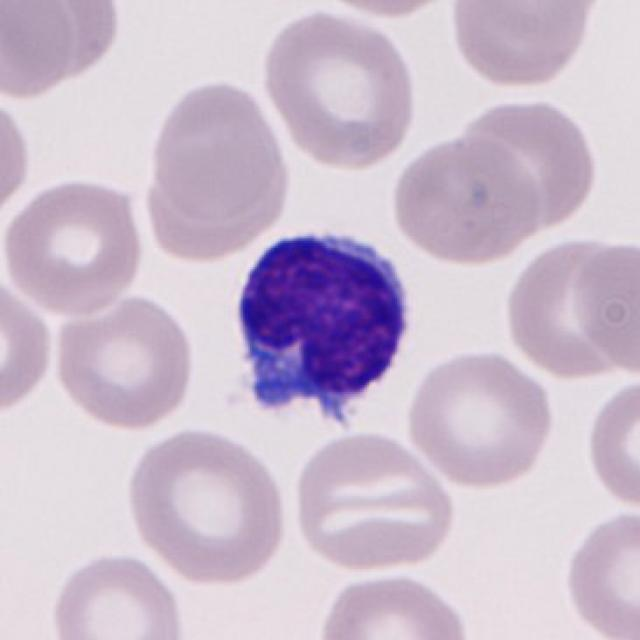Lymphocyte: (222, 218, 421, 441)
RBC: (119, 423, 294, 588), (257, 5, 421, 175), (289, 426, 458, 576), (402, 343, 558, 491), (449, 92, 604, 238), (0, 174, 149, 319), (145, 76, 289, 226), (49, 290, 198, 432), (388, 132, 544, 267), (138, 135, 294, 269), (444, 0, 602, 92), (46, 548, 190, 640), (311, 565, 476, 640), (559, 504, 638, 640), (567, 238, 638, 378), (0, 274, 58, 422), (0, 0, 78, 102), (582, 371, 638, 512), (0, 90, 33, 224), (306, 0, 467, 21)
